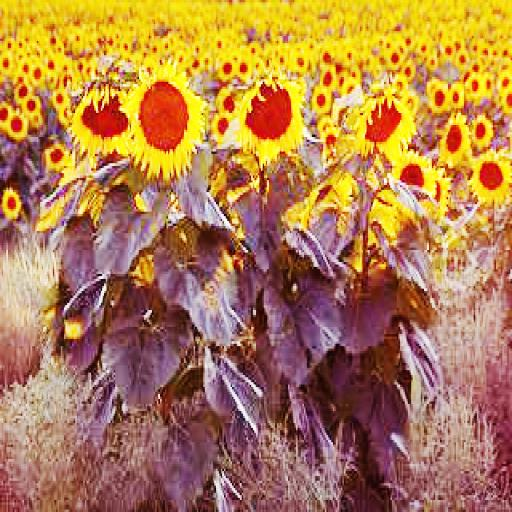sunflower: (120, 60, 206, 176), (240, 77, 304, 168), (360, 86, 416, 166), (75, 82, 128, 151), (469, 149, 512, 202), (440, 113, 469, 166), (470, 113, 492, 147), (5, 108, 27, 140), (428, 84, 450, 113), (312, 82, 330, 115), (2, 188, 20, 216)
